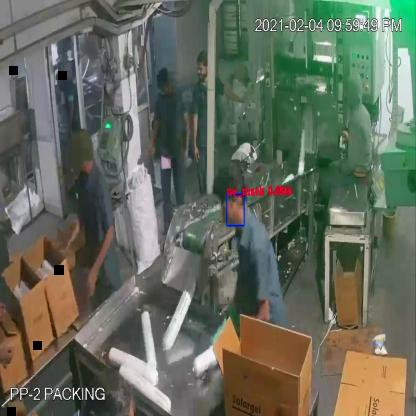no_glove: (80, 223, 121, 304), (174, 101, 194, 162), (140, 107, 161, 161), (218, 75, 248, 109), (189, 103, 204, 169), (0, 331, 18, 376)
